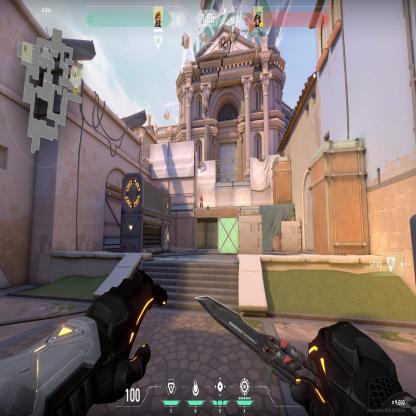enemy: (199, 193, 204, 208)
